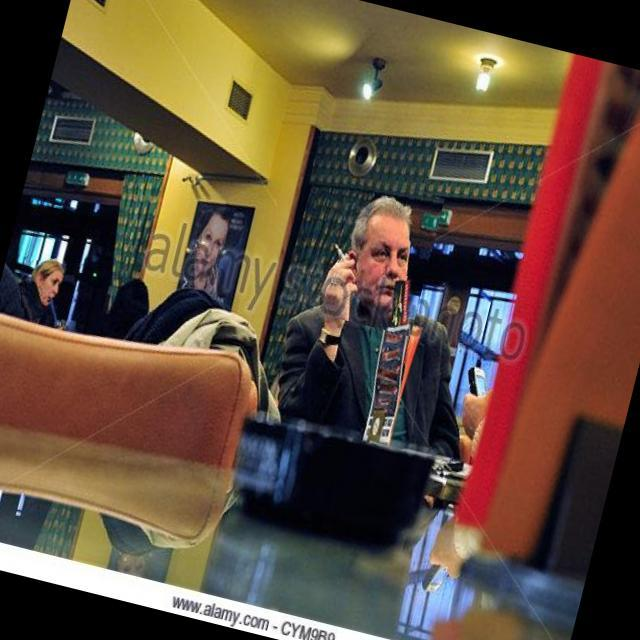cigarette: (322, 228, 354, 274)
